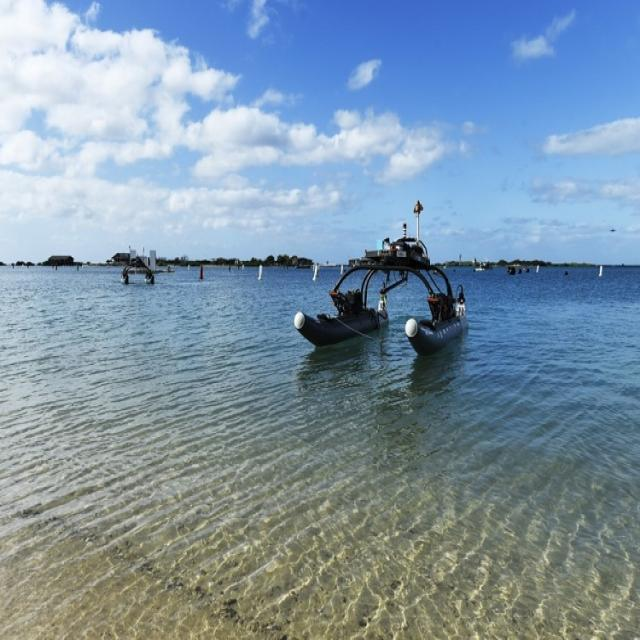Wam_V: (283, 199, 492, 416), (294, 205, 474, 394)
